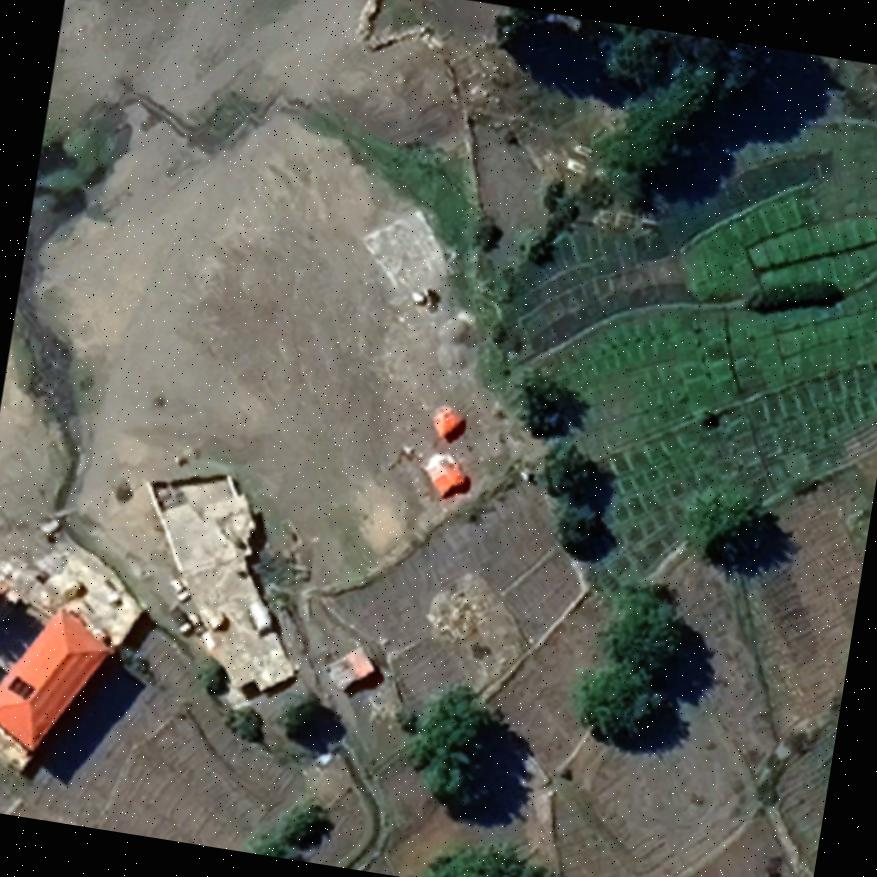Solarpanel: (4, 672, 38, 703)
